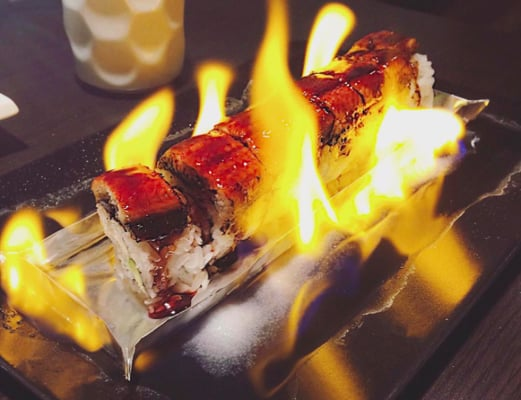pasta: (103, 86, 175, 172)
pizza: (61, 1, 186, 94)
